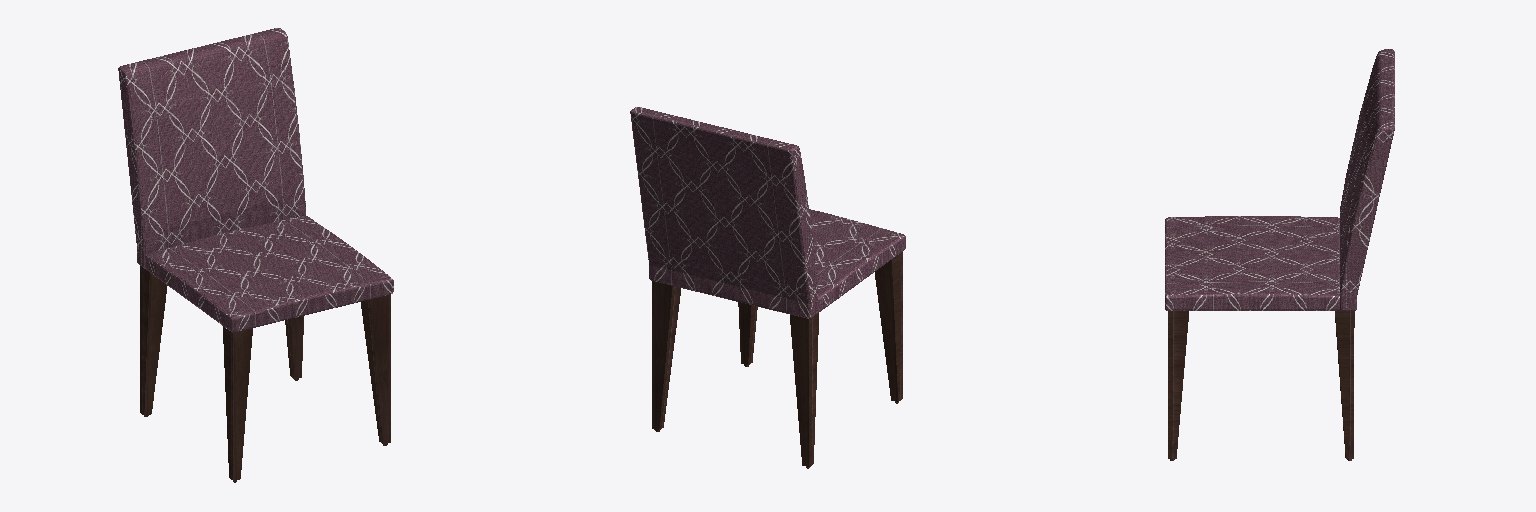
The picture shows the model from 3 angles: view 1: azimuth 30°, elevation 25°; view 2: azimuth 150°, elevation 25°; view 3: azimuth 270°, elevation 25°; orthographic projection.
Parts seen in each view (by area): view 1: solid_002, solid_001; view 2: solid_002, solid_001; view 3: solid_002, solid_001.
Boxes of the visible parts, box(x1,y1,x2,y2) form: solid_002: box(118, 28, 393, 332); solid_001: box(140, 266, 390, 482); solid_002: box(630, 107, 905, 318); solid_001: box(652, 252, 902, 468); solid_002: box(1165, 49, 1394, 310); solid_001: box(1168, 310, 1354, 460).
Size of the model in its own units: 0.7732 by 1.53 by 0.9473.
Materials: 1 (1 with a texture image).